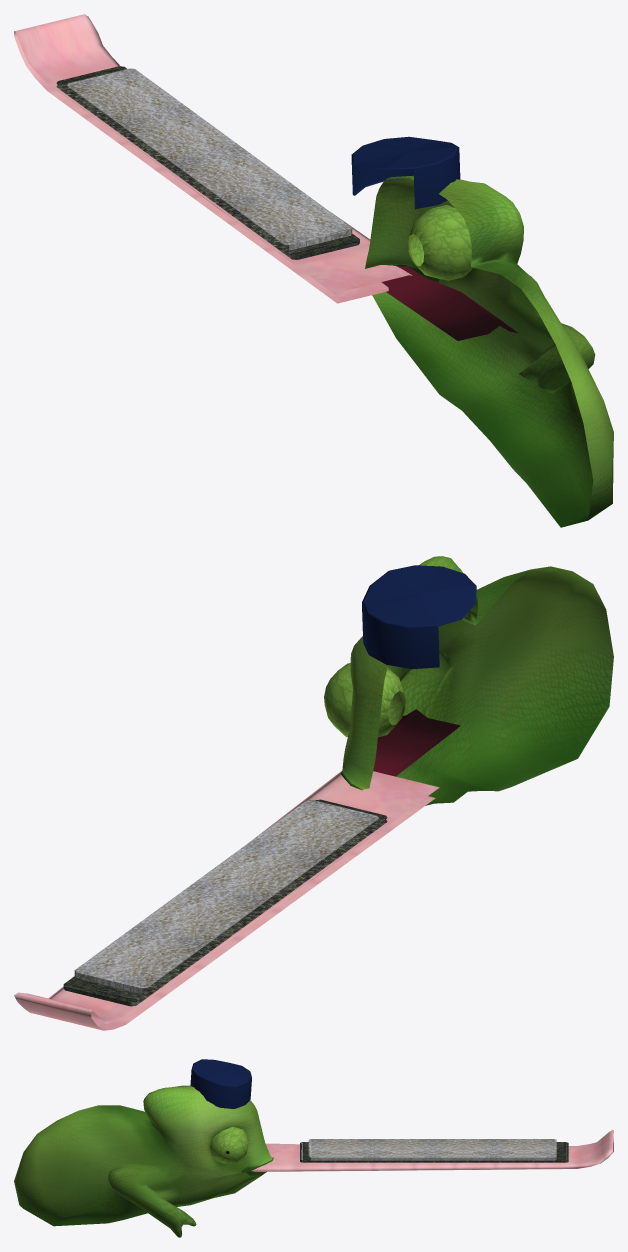
File: Chameleon.fbx
3 views of the same model, one above another, from view 1: azimuth 30°, elevation 25°; view 2: azimuth 150°, elevation 25°; view 3: azimuth 270°, elevation 25° (orthographic). The views are drawn at different scales.
Visible parts, largest first — view 1: Chameleon, Rice, Chameleon_Tongue, Chameleon_Eye, Nori; view 2: Chameleon, Rice, Chameleon_Tongue, Nori, Chameleon_Eye; view 3: Chameleon, Rice, Chameleon_Tongue, Nori, Chameleon_Eye.
Boxes of the visible parts, <box> form: Chameleon: <box>351,136,613,527</box>; Rice: <box>67,68,352,250</box>; Chameleon_Tongue: <box>14,14,412,303</box>; Chameleon_Eye: <box>407,205,472,280</box>; Nori: <box>56,66,359,259</box>; Chameleon: <box>340,556,613,805</box>; Rice: <box>74,800,378,994</box>; Chameleon_Tongue: <box>14,771,439,1030</box>; Nori: <box>63,799,387,1006</box>; Chameleon_Eye: <box>324,663,405,737</box>; Chameleon: <box>14,1059,273,1237</box>; Rice: <box>308,1139,556,1160</box>; Chameleon_Tongue: <box>251,1129,613,1171</box>; Nori: <box>300,1142,568,1162</box>; Chameleon_Eye: <box>210,1126,248,1164</box>.
Size of the model in its own units: 1.31 by 2.27 by 8.08.
